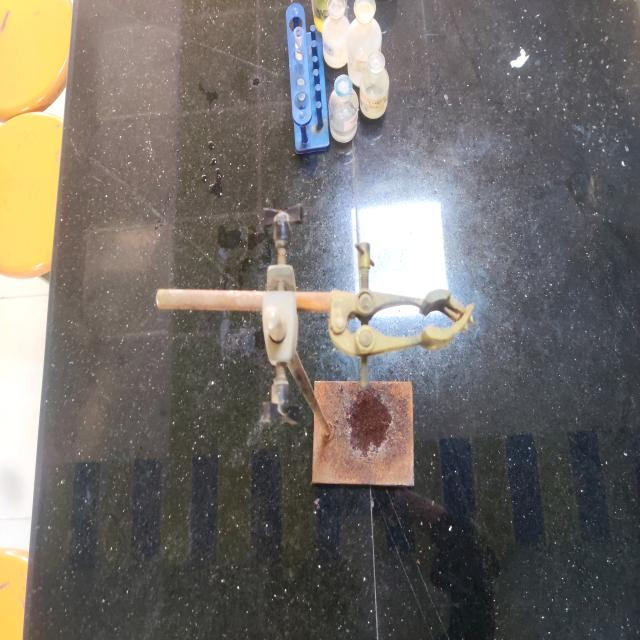Burette_Stands: (105, 177, 492, 540)
